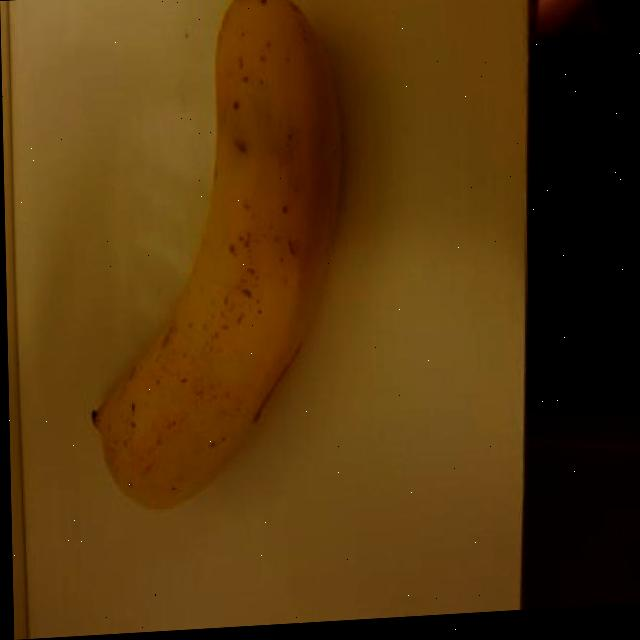banana: (58, 0, 362, 512)
